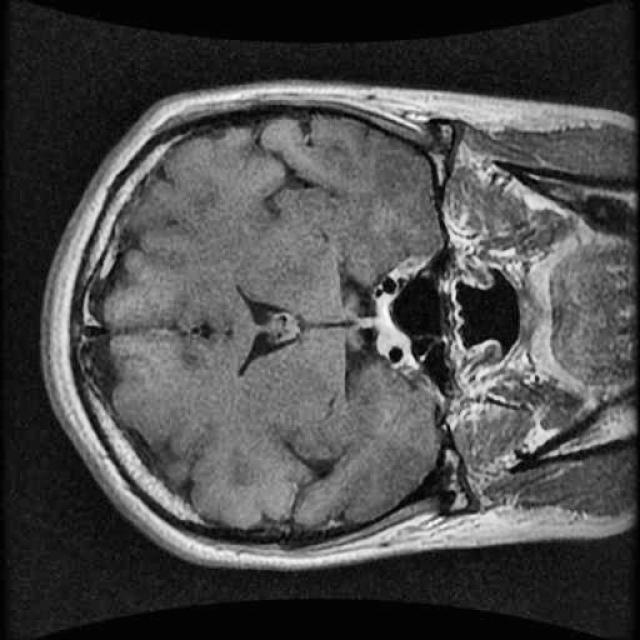Tumor: (350, 271, 419, 365)
